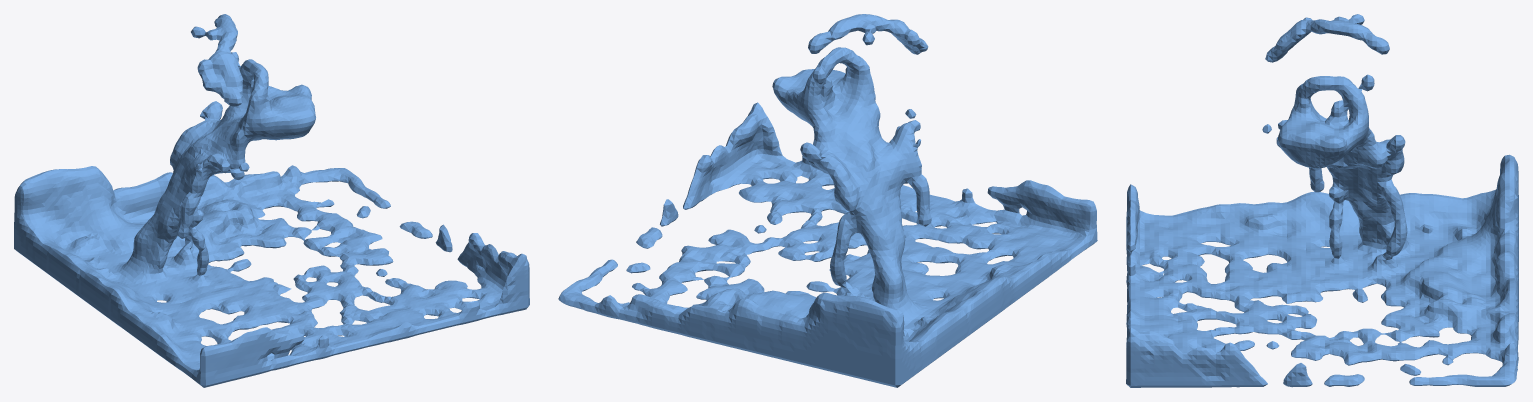
File: water_0064.glb
3 views of the same model, side by side, from view 1: azimuth 30°, elevation 25°; view 2: azimuth 150°, elevation 25°; view 3: azimuth 270°, elevation 25° (orthographic). The views are drawn at different scales.
Visible parts, largest first — view 1: Water_0064; view 2: Water_0064; view 3: Water_0064.
Boxes of the visible parts, left/top/right/bottom form: Water_0064: left=14, top=14, right=529, bottom=387; Water_0064: left=558, top=14, right=1097, bottom=387; Water_0064: left=1126, top=14, right=1518, bottom=387.
Size of the model in its own units: 4.83 by 3.63 by 4.83.
